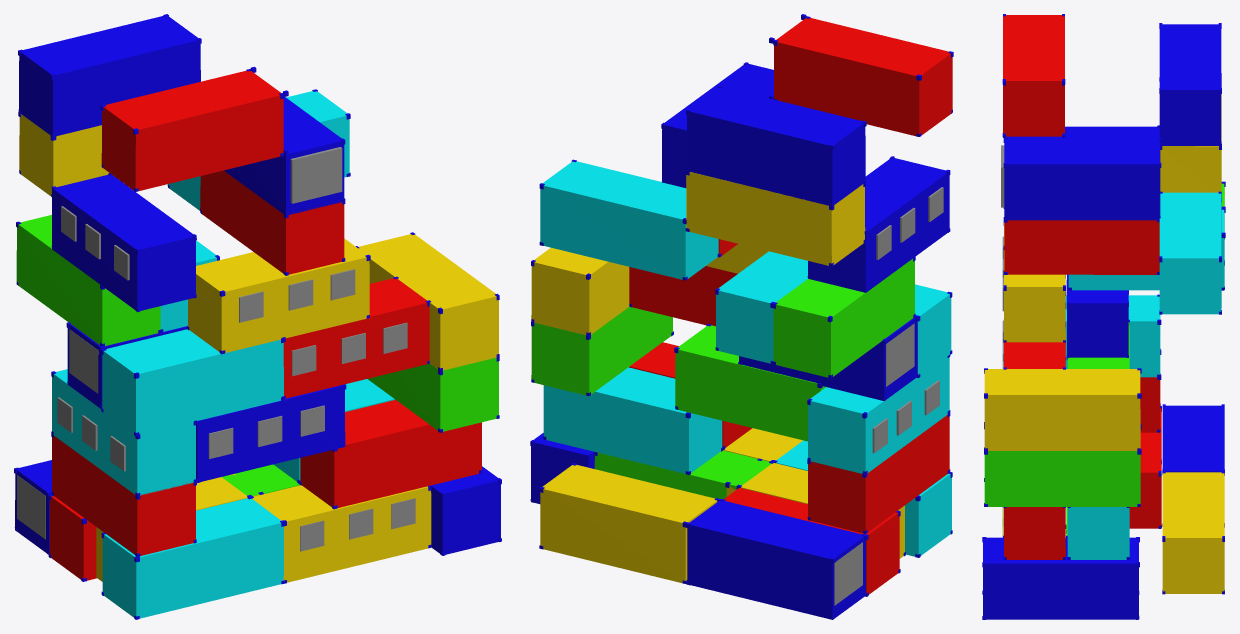
Rendered from ParentPart02FBX.FBX.
3 renders of one model, left to right at view 1: azimuth 30°, elevation 25°; view 2: azimuth 150°, elevation 25°; view 3: azimuth 270°, elevation 25°, orthographic. The views are drawn at different scales.
Visible parts, largest first — view 1: ParentPart02; view 2: ParentPart02; view 3: ParentPart02.
Part boxes in pixels (x1,y1,x2,y2): ParentPart02: (14,14,501,619); ParentPart02: (530,14,953,619); ParentPart02: (982,14,1225,619).
Bounding box in the file's own units: 4.94 × 3.2 × 6.52.
